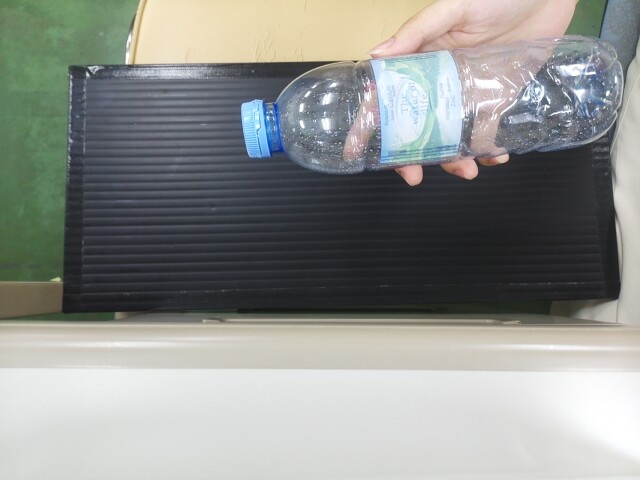plastic_bottle: (236, 53, 474, 168)
